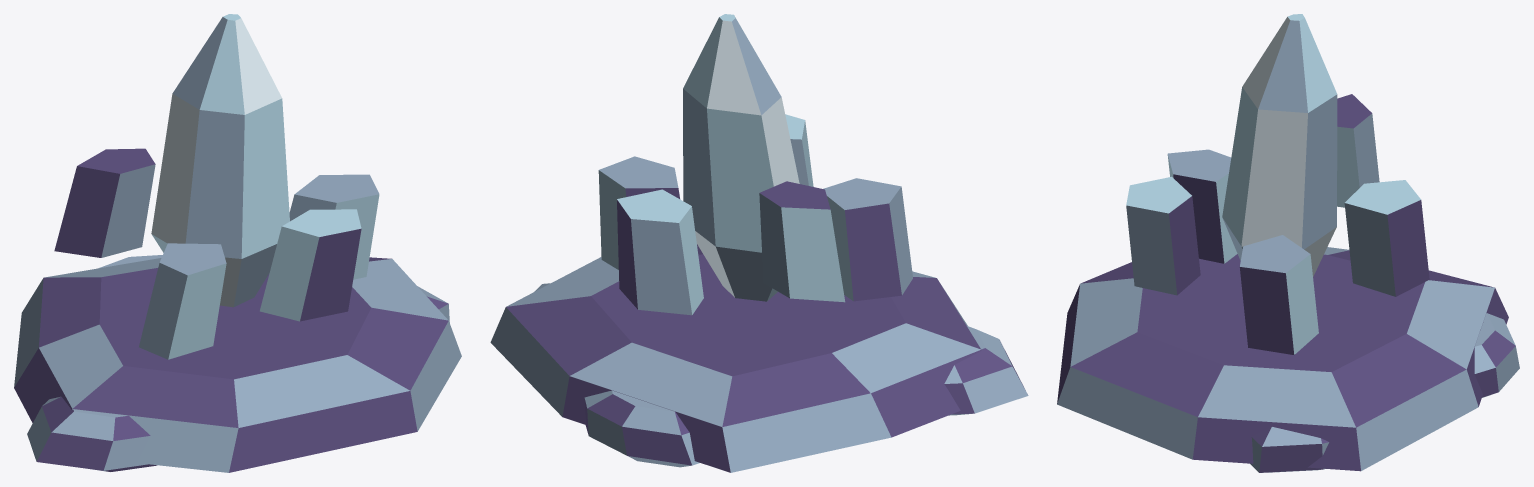
The model's file is BH_ORE_O20_Cristal_Anomalo_V01.glb.
3 views of the same model, side by side, from view 1: azimuth 30°, elevation 25°; view 2: azimuth 150°, elevation 25°; view 3: azimuth 270°, elevation 25° (orthographic). The views are drawn at different scales.
Visible parts, largest first — view 1: Bedrock | primary.001, Linked anomaly prism.001, Anomaly block 5.001, Anomaly block 3.001, Anomaly block 4.001, Bedrock | shoulder 1.001, Anomaly block 1.001; view 2: Bedrock | primary.001, Linked anomaly prism.001, Anomaly block 2.001, Anomaly block 4.001, Anomaly block 3.001, Bedrock | shoulder 3.001, Bedrock | shoulder 1.001, Anomaly block 1.001, Anomaly block 5.001; view 3: Bedrock | primary.001, Linked anomaly prism.001, Anomaly block 2.001, Anomaly block 1.001, Anomaly block 5.001, Anomaly block 4.001, Anomaly block 3.001, Bedrock | shoulder 2.001, Bedrock | shoulder 3.001.
Part boxes in pixels (x1,y1,x2,y2): Bedrock | primary.001: [14, 257, 461, 472]; Linked anomaly prism.001: [151, 14, 289, 307]; Anomaly block 5.001: [260, 209, 361, 321]; Anomaly block 3.001: [54, 148, 155, 257]; Anomaly block 4.001: [139, 243, 226, 359]; Bedrock | shoulder 1.001: [27, 396, 156, 471]; Anomaly block 1.001: [289, 174, 379, 279]; Bedrock | primary.001: [490, 244, 981, 472]; Linked anomaly prism.001: [683, 14, 799, 301]; Anomaly block 2.001: [617, 189, 703, 315]; Anomaly block 4.001: [823, 178, 912, 301]; Anomaly block 3.001: [759, 181, 845, 302]; Bedrock | shoulder 3.001: [584, 390, 699, 467]; Bedrock | shoulder 1.001: [944, 326, 1028, 415]; Anomaly block 1.001: [598, 156, 679, 269]; Anomaly block 5.001: [785, 114, 813, 186]; Bedrock | primary.001: [1057, 247, 1508, 471]; Linked anomaly prism.001: [1222, 14, 1337, 276]; Anomaly block 2.001: [1344, 180, 1429, 296]; Anomaly block 1.001: [1239, 235, 1318, 354]; Anomaly block 5.001: [1126, 176, 1200, 295]; Anomaly block 4.001: [1167, 149, 1237, 263]; Anomaly block 3.001: [1337, 94, 1379, 207]; Bedrock | shoulder 2.001: [1250, 427, 1329, 472]; Bedrock | shoulder 3.001: [1474, 313, 1519, 397].
Size of the model in its own units: 2.52 by 1.96 by 2.21.
